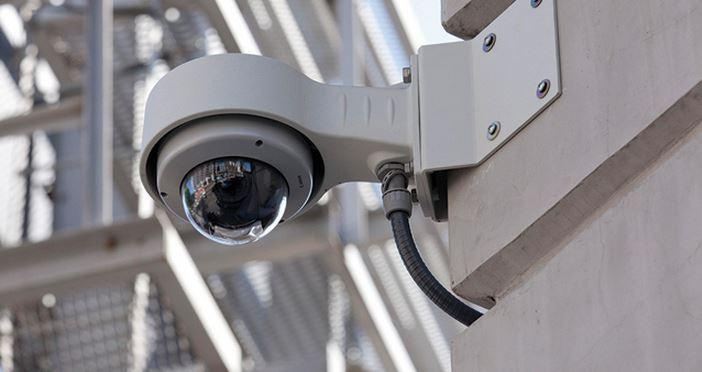CCTV: (125, 42, 371, 255)
